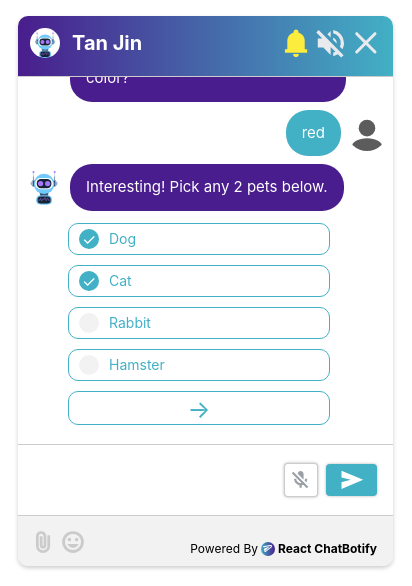
it: Chat Bot Test Suite › Selects correct checkboxes and verifies bot reply
(page scrolled)
Click the 4th button: (199, 408) [68, 391, 330, 425]
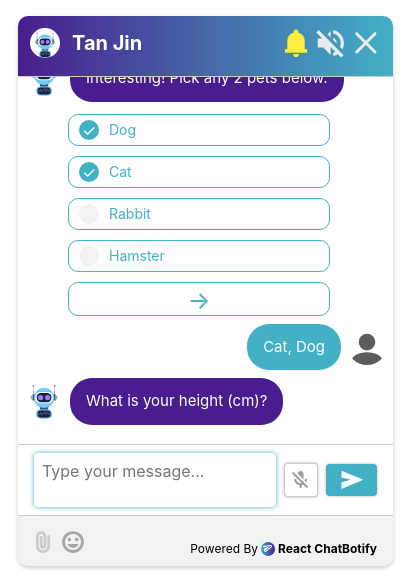
Expected: the text "What is your height (cm)?" is shown, [70, 378, 283, 424]
